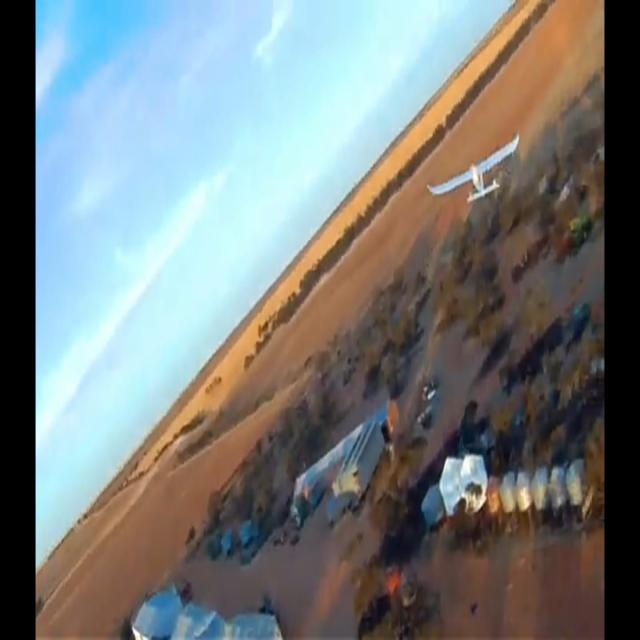iha: (458, 166, 488, 172)
